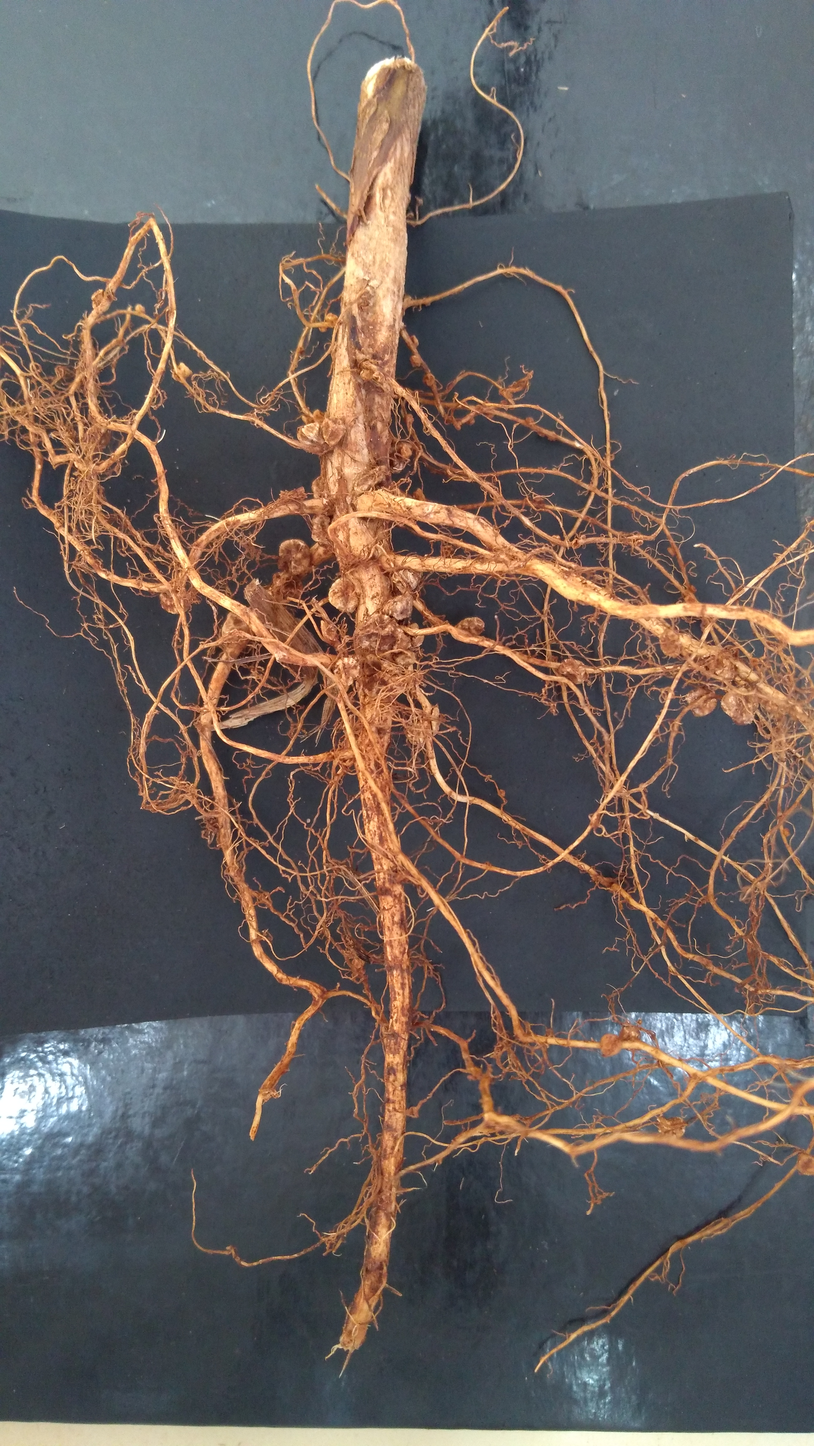nodule: (720, 681, 761, 729), (682, 681, 721, 719), (326, 573, 361, 615), (152, 586, 196, 619), (277, 536, 312, 576), (654, 1106, 692, 1140), (555, 654, 594, 687), (217, 607, 254, 641), (652, 626, 686, 660), (319, 413, 349, 448), (332, 653, 360, 689), (379, 593, 416, 620), (454, 613, 489, 641), (790, 1147, 813, 1186), (364, 612, 398, 636), (166, 360, 197, 386), (707, 651, 735, 679), (403, 715, 425, 750), (599, 1028, 623, 1060), (393, 566, 422, 590), (618, 1020, 647, 1044), (300, 419, 326, 445), (317, 616, 340, 644), (391, 627, 414, 655), (429, 704, 445, 740), (344, 944, 365, 969), (294, 421, 313, 448), (364, 651, 383, 677), (393, 649, 418, 667), (420, 371, 439, 391), (412, 486, 429, 504), (91, 288, 105, 309), (398, 442, 414, 460), (325, 310, 341, 327), (410, 632, 426, 649), (359, 367, 375, 382), (409, 354, 424, 369), (408, 333, 421, 349), (372, 371, 387, 383), (532, 497, 546, 509), (314, 324, 330, 334), (404, 412, 415, 426), (546, 432, 561, 442), (408, 620, 420, 632), (534, 427, 547, 438), (134, 302, 147, 313), (524, 414, 535, 426), (666, 545, 677, 556), (687, 583, 697, 593), (633, 539, 645, 546), (500, 398, 509, 407), (465, 417, 475, 425), (497, 788, 505, 797)
